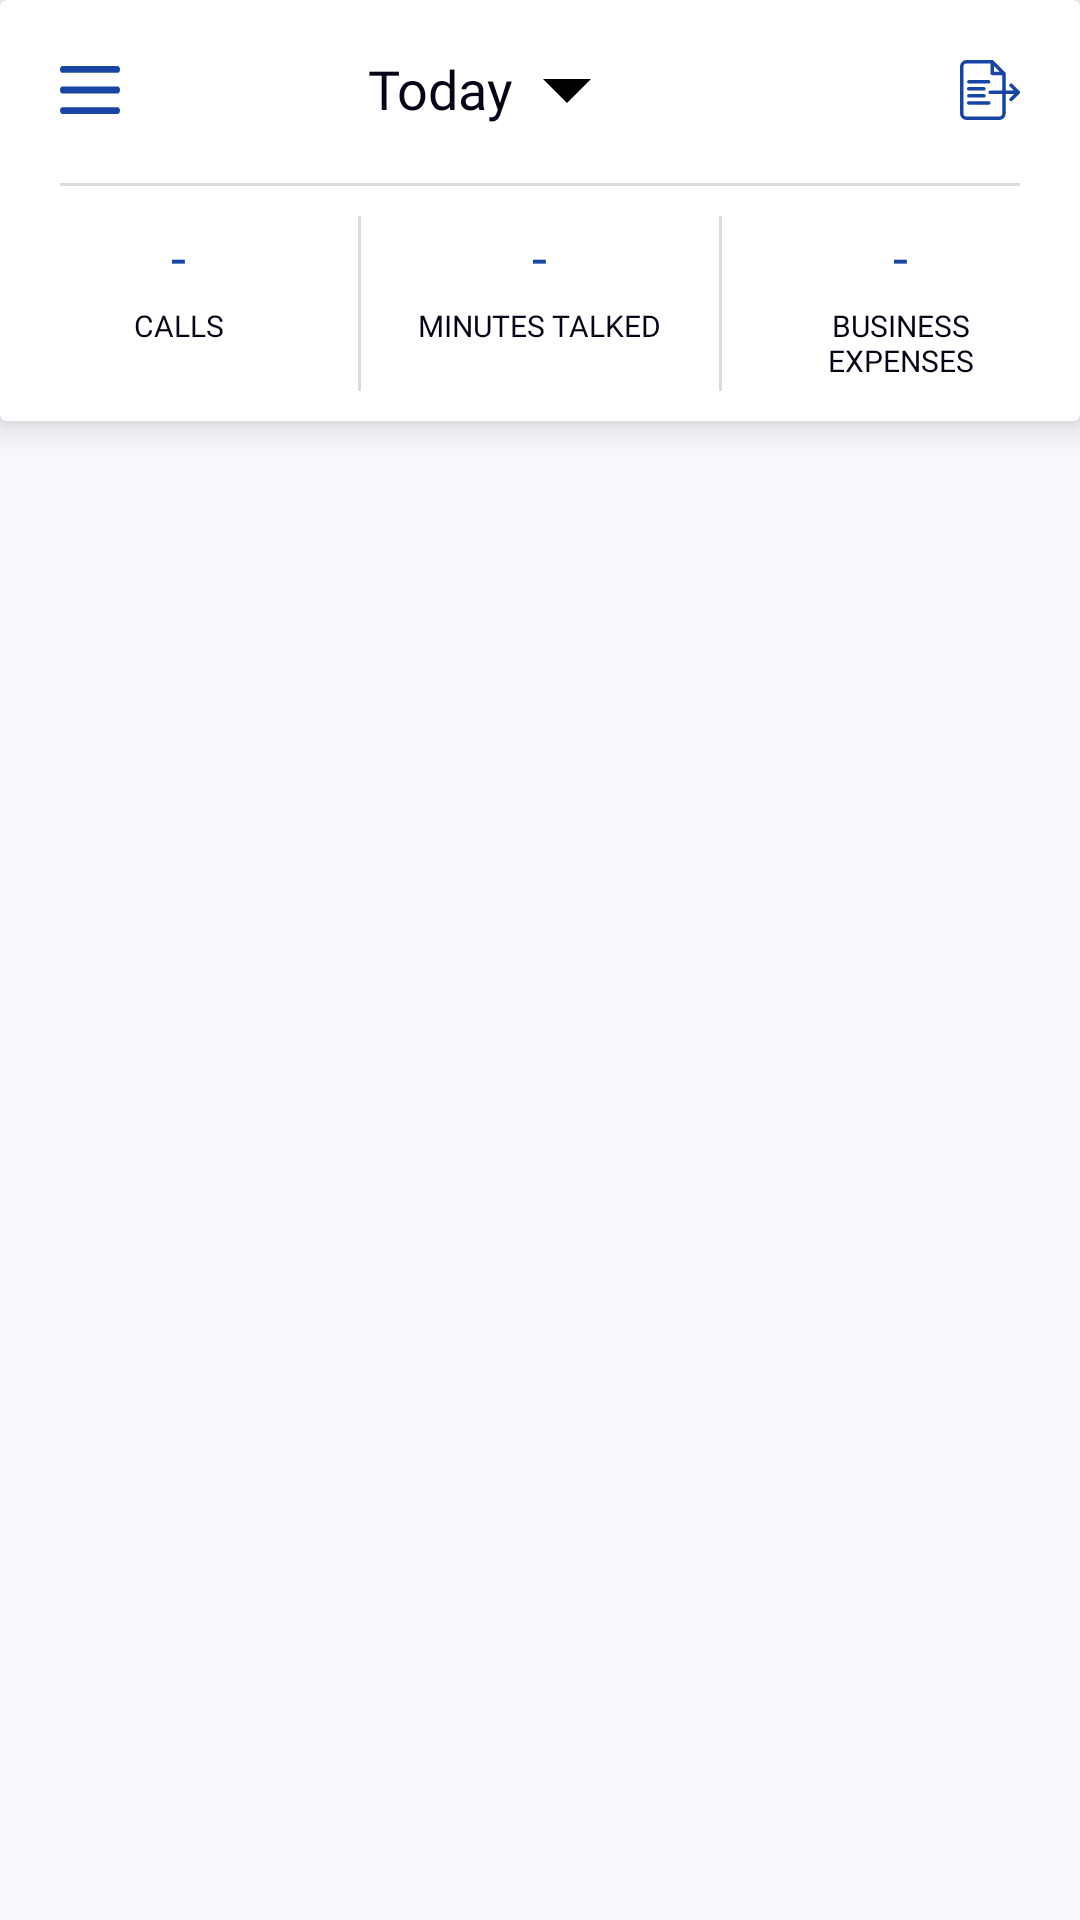

Screen size 1080 x 1920. Icon name, then its box in pixels as [x1,y1,x2,y2]:
document: [960,60,1020,120]
drawer menu: [60,66,120,114]
dropdown: [543,79,591,103]
